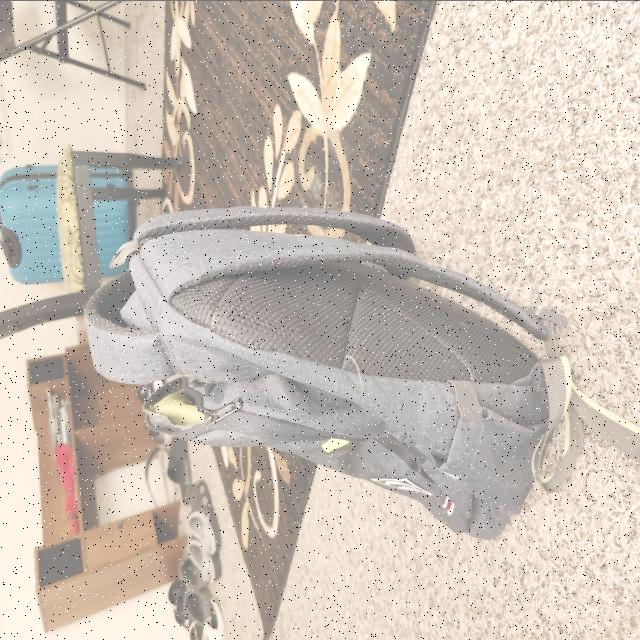bag: (96, 191, 564, 490)
